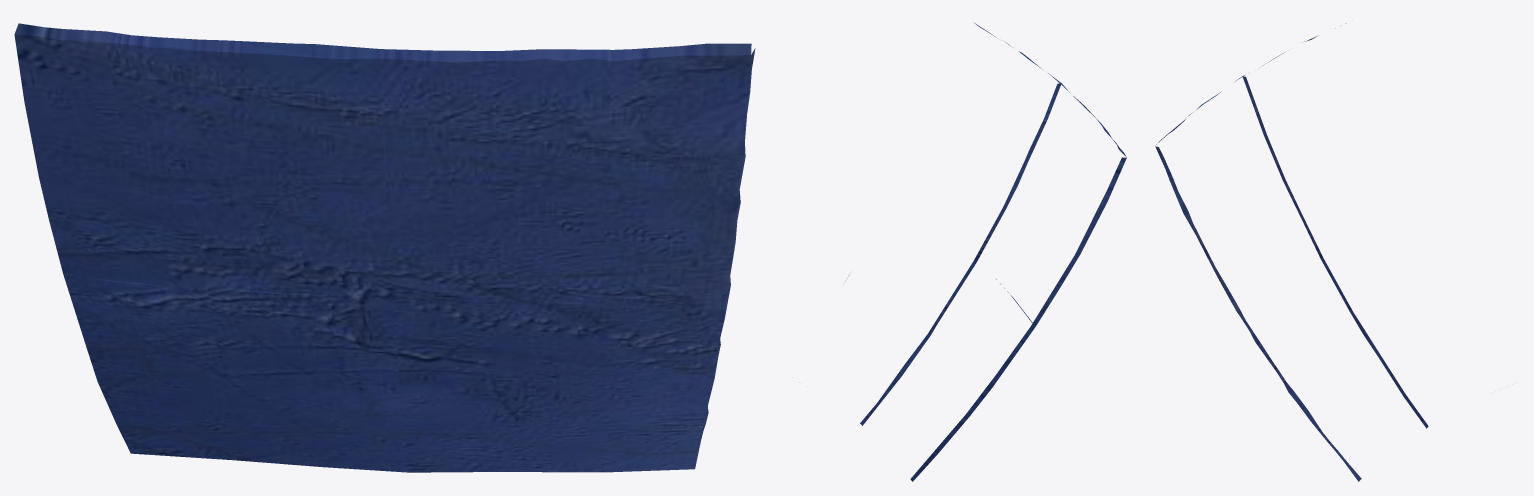
3 views of the same model, side by side, from view 1: azimuth 30°, elevation 25°; view 2: azimuth 150°, elevation 25°; view 3: azimuth 270°, elevation 25° (orthographic). The views are drawn at different scales.
Bounding box in the file's own units: 2468049 × 2102761 × 2283633.
1 material, 1 textured.
